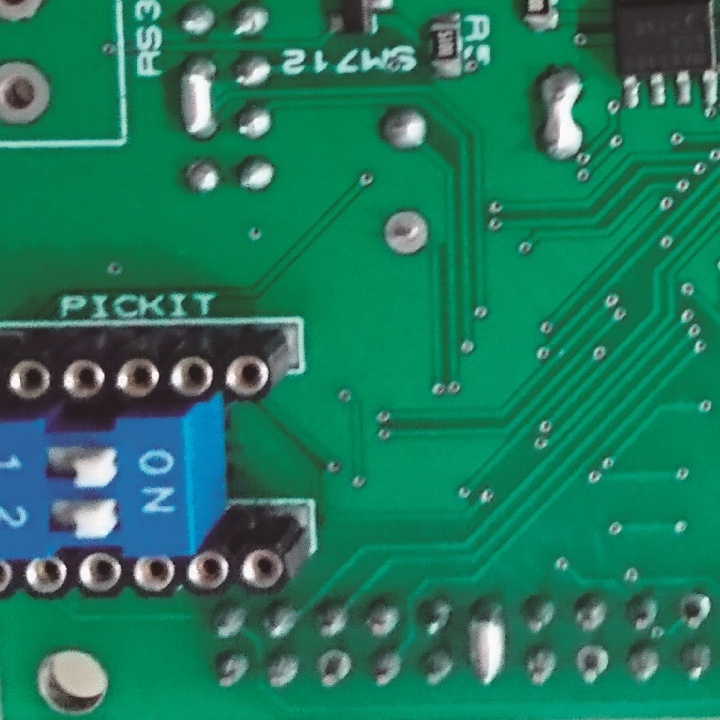F: (1, 60, 55, 129), (381, 207, 431, 258), (676, 589, 715, 631), (573, 643, 610, 686), (313, 648, 350, 689)
P: (534, 61, 584, 163), (461, 591, 509, 689), (174, 53, 220, 144)
